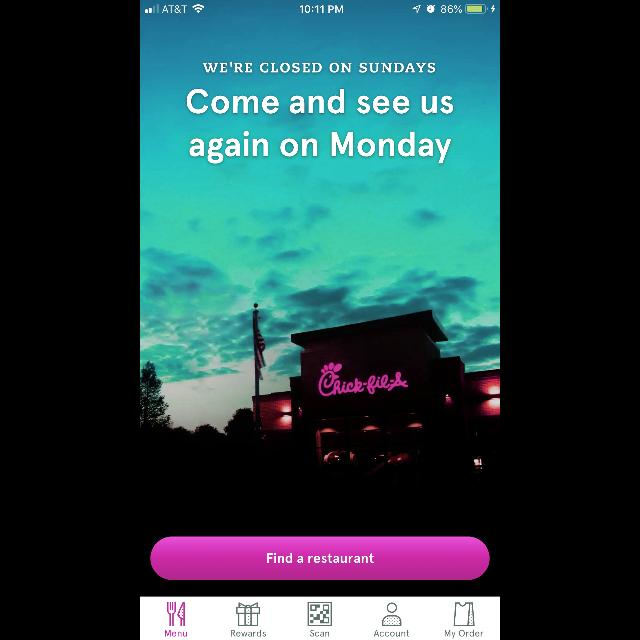backgroundimage: (140, 1, 500, 597)
icon: (236, 602, 260, 626), (382, 602, 402, 626)
image: (308, 602, 332, 626), (454, 602, 474, 626), (168, 602, 185, 626)
text: (186, 88, 454, 164), (202, 62, 436, 74), (444, 630, 484, 638), (374, 630, 408, 636), (232, 630, 266, 636), (165, 630, 187, 636), (310, 630, 330, 636)
textbutton: (150, 536, 490, 580)
uppertaskbar: (140, 0, 500, 14)
